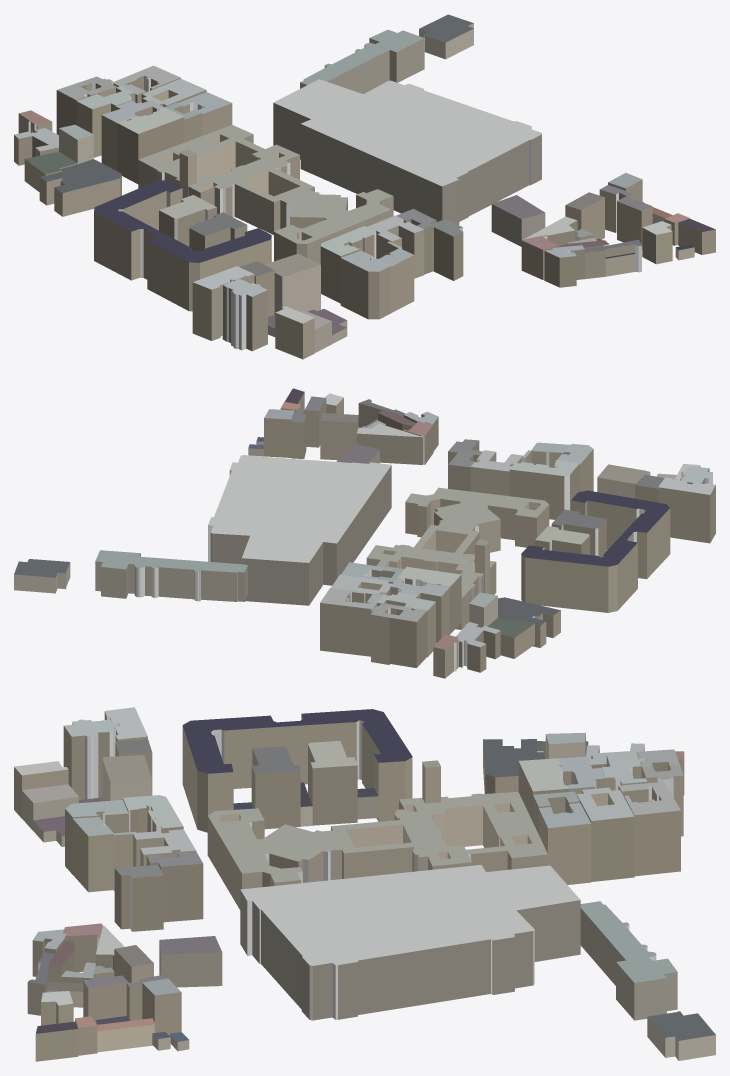
3 renders of one model, top to bottom at view 1: azimuth 30°, elevation 25°; view 2: azimuth 150°, elevation 25°; view 3: azimuth 270°, elevation 25°, orthographic. The views are drawn at different scales.
Visible parts, largest first — view 1: tuile; view 2: tuile; view 3: tuile.
Boxes of the visible parts, x1=… form: tuile: x1=14, y1=14, x2=715, y2=359; tuile: x1=14, y1=388, x2=715, y2=678; tuile: x1=14, y1=707, x2=715, y2=1061.
Size of the model in its own units: 270 by 35.18 by 268.
